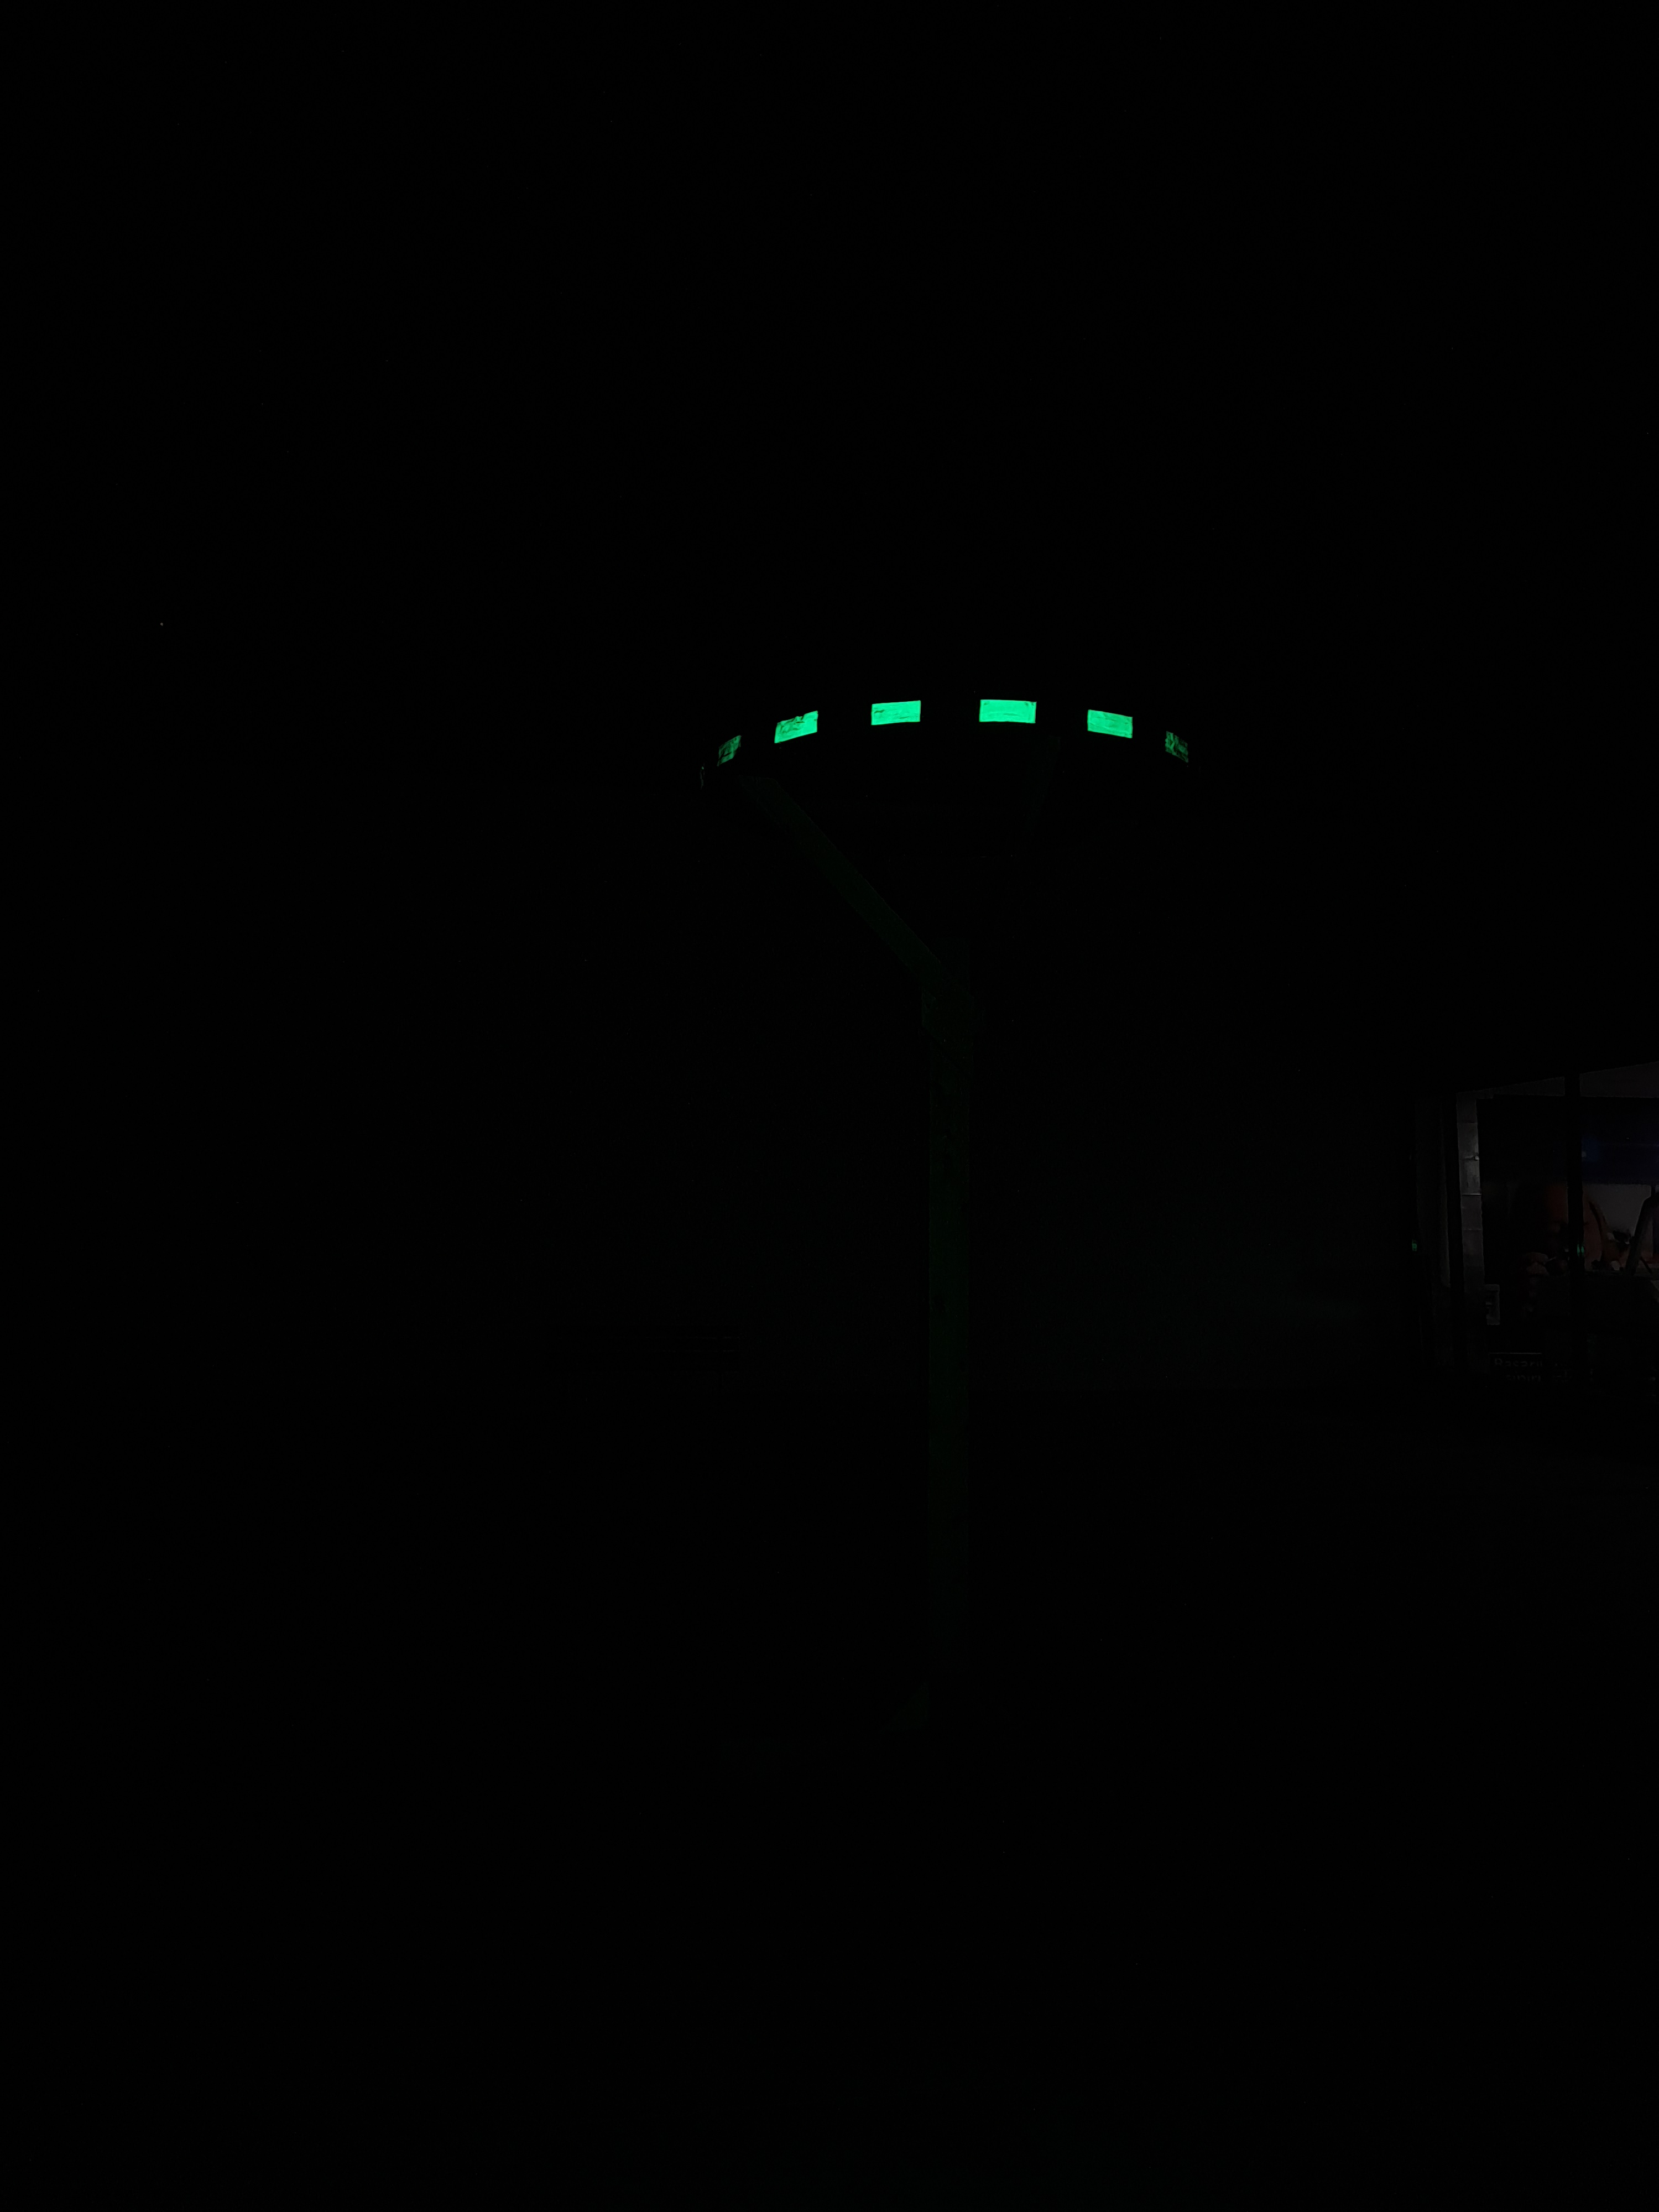hoop: (706, 693, 1195, 773)
